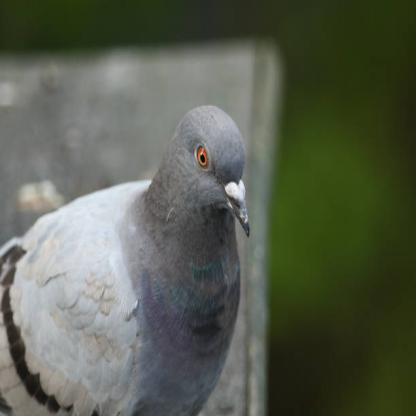Rock Pigeon: (7, 105, 253, 408)
